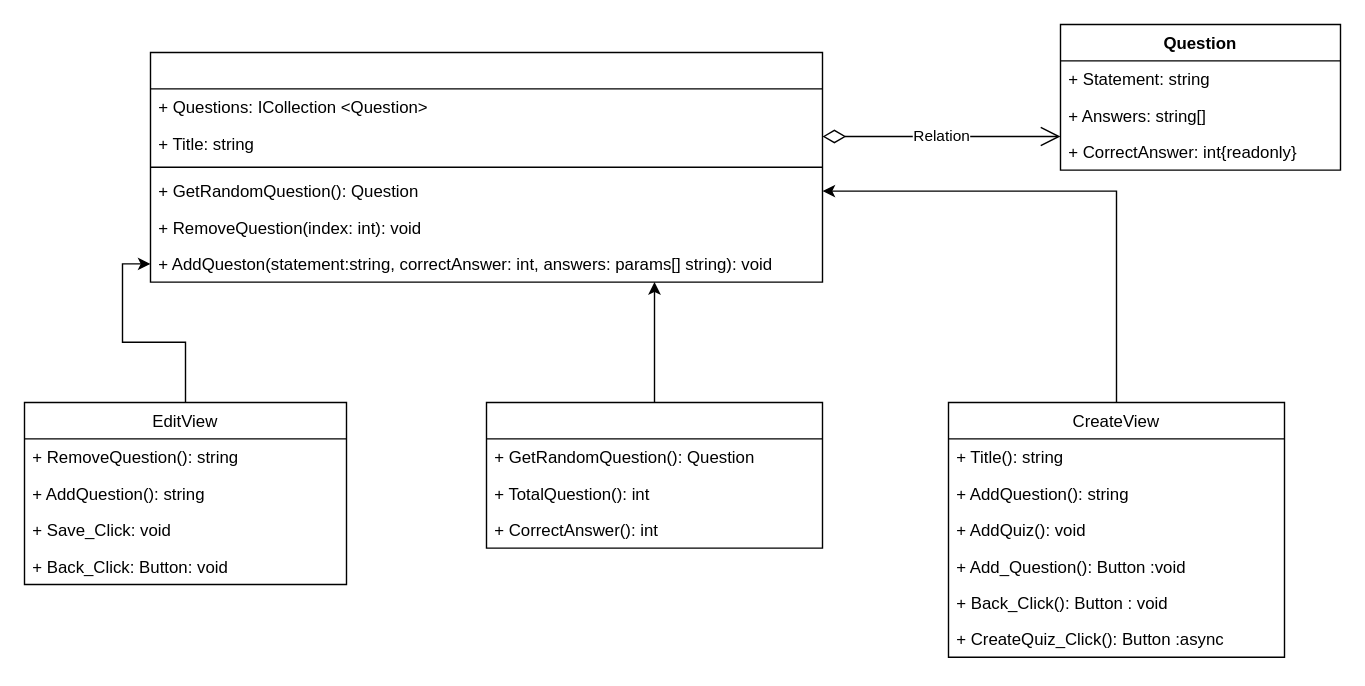
Image size: 1365x686. Some labels were removed from this diagram. Each missing label, with the box of its shape:
PlayView: (485, 401, 822, 548)
Quiz: (149, 51, 822, 282)
